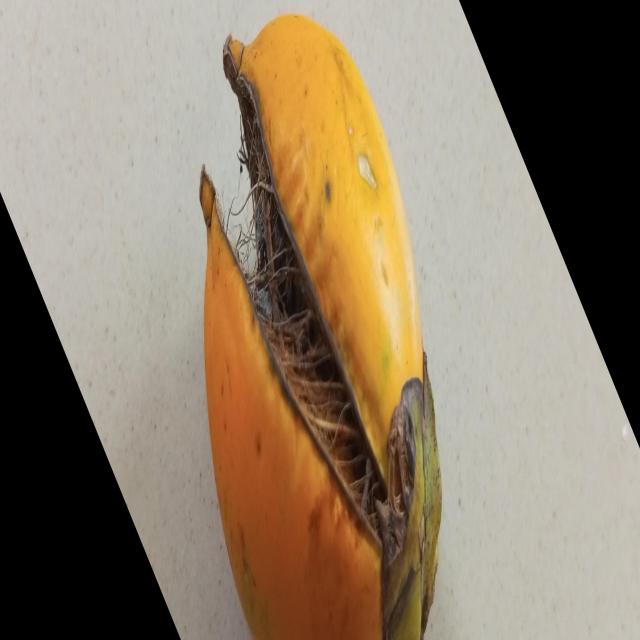damaged: (199, 14, 441, 640)
